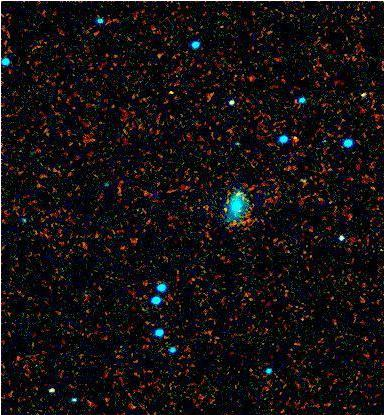star: (212, 198, 242, 228)
